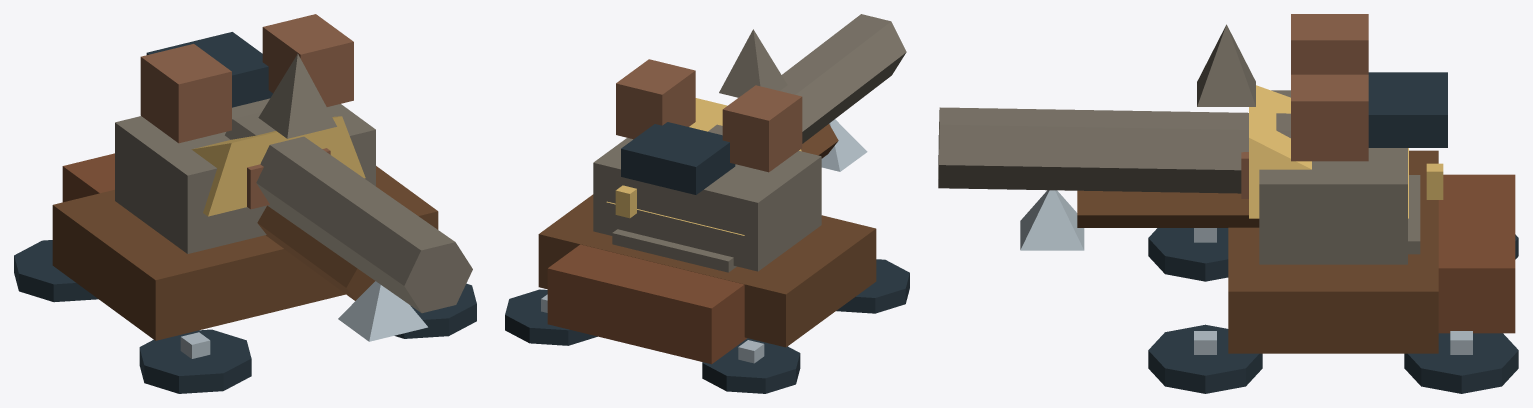
The model's file is heavy-artillery.obj.
3 views of the same model, side by side, from view 1: azimuth 30°, elevation 25°; view 2: azimuth 150°, elevation 25°; view 3: azimuth 270°, elevation 25° (orthographic). The views are drawn at different scales.
Visible parts, largest first — view 1: siege; view 2: siege; view 3: siege.
Boxes of the visible parts, bbox=[...] form: siege: bbox=[14, 14, 476, 393]; siege: bbox=[505, 14, 909, 393]; siege: bbox=[938, 14, 1518, 393].
Bounding box in the file's own units: 2.1 × 1.72 × 3.15.
